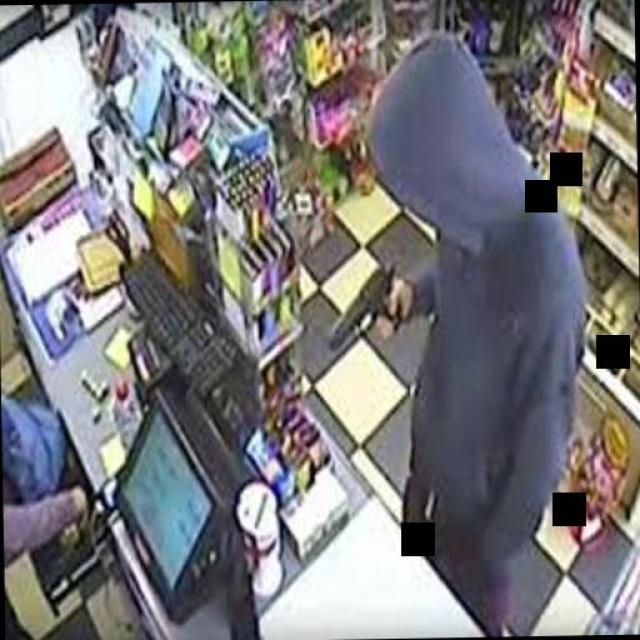gun: (320, 250, 406, 364)
